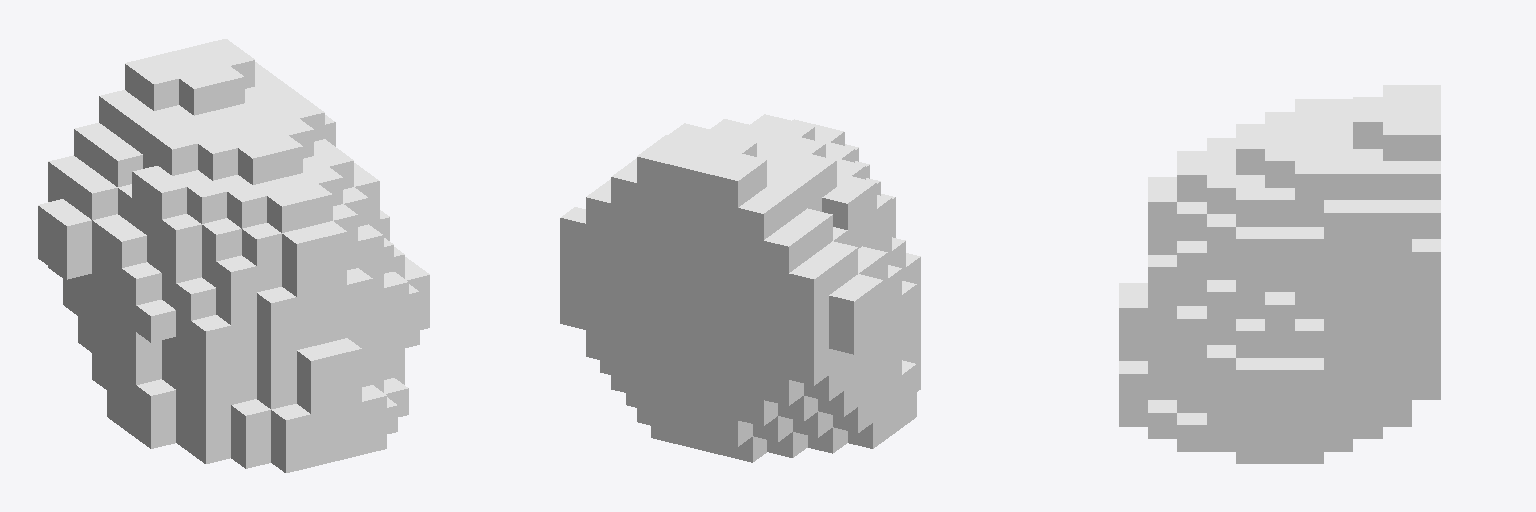
Rendered from bendVertDown.obj.
3 renders of one model, left to right at view 1: azimuth 30°, elevation 25°; view 2: azimuth 150°, elevation 25°; view 3: azimuth 270°, elevation 25°, orthographic.
Parts seen in each view (by area): view 1: bendVertDown; view 2: bendVertDown; view 3: bendVertDown.
Part boxes in pixels (x1,y1,x2,y2): bendVertDown: (38, 39, 429, 472); bendVertDown: (560, 114, 920, 462); bendVertDown: (1119, 85, 1440, 463).
Bounding box in the file's own units: 1 × 0.9167 × 0.9167.